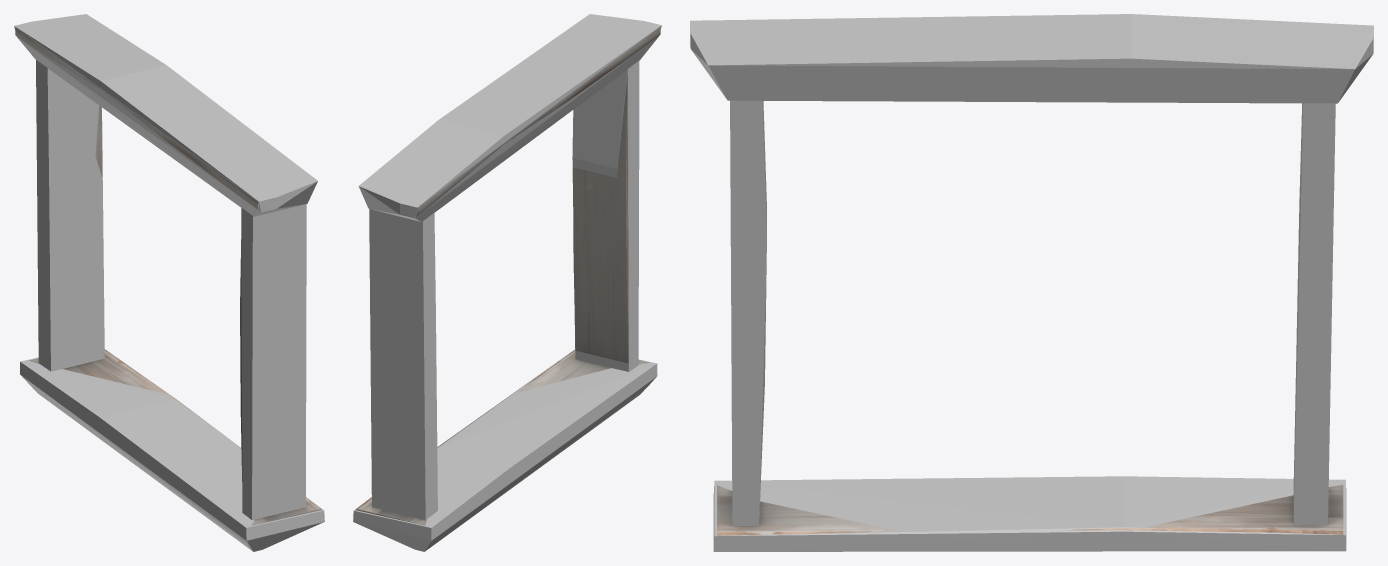
Rendered from SM_PropWindow01TypeB_1_2.fbx.
3 renders of one model, left to right at view 1: azimuth 30°, elevation 25°; view 2: azimuth 150°, elevation 25°; view 3: azimuth 270°, elevation 25°, orthographic. The views are drawn at different scales.
Parts seen in each view (by area): view 1: SM_PropWindow01TypeB_1_2_ConvexHulls, SM_PropWindow01TypeB_1_2; view 2: SM_PropWindow01TypeB_1_2_ConvexHulls, SM_PropWindow01TypeB_1_2; view 3: SM_PropWindow01TypeB_1_2_ConvexHulls, SM_PropWindow01TypeB_1_2.
Part boxes in pixels (bbox=[...]): SM_PropWindow01TypeB_1_2_ConvexHulls: bbox=[14, 14, 324, 551]; SM_PropWindow01TypeB_1_2: bbox=[15, 28, 322, 525]; SM_PropWindow01TypeB_1_2_ConvexHulls: bbox=[353, 14, 661, 551]; SM_PropWindow01TypeB_1_2: bbox=[355, 27, 660, 525]; SM_PropWindow01TypeB_1_2_ConvexHulls: bbox=[690, 14, 1373, 551]; SM_PropWindow01TypeB_1_2: bbox=[717, 145, 1343, 535].
Bounding box in the file's own units: 44.88 × 243 × 201.
Materials: 2 (1 with a texture image).
